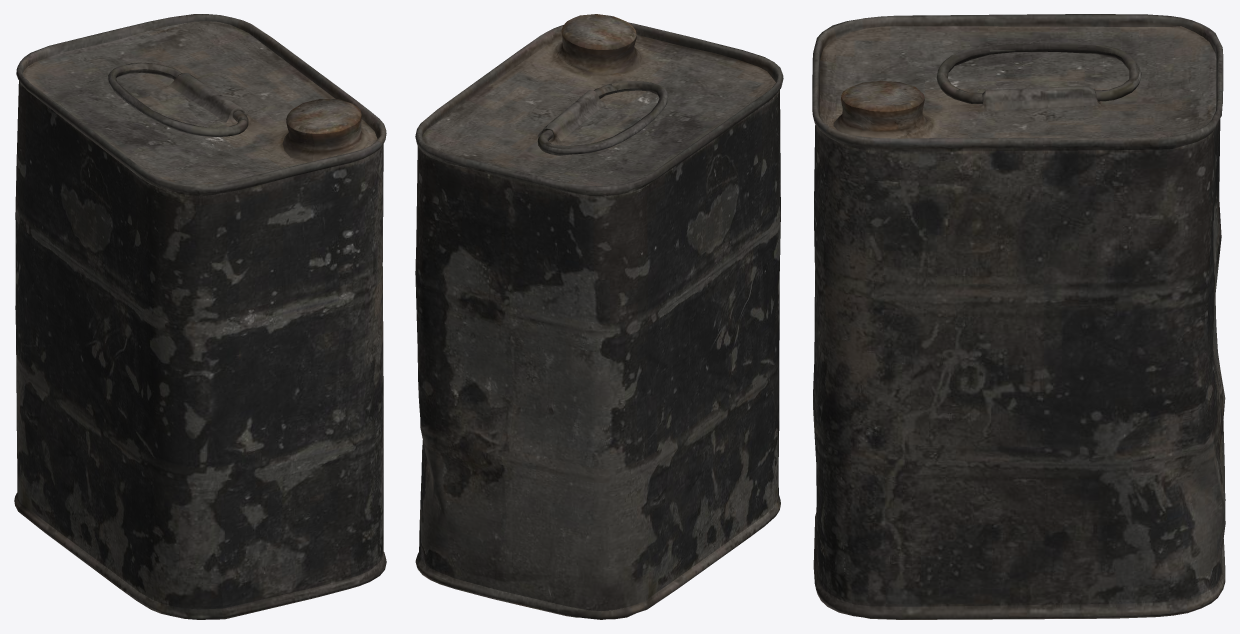
File: Oil Tin.glb
3 renders of one model, left to right at view 1: azimuth 30°, elevation 25°; view 2: azimuth 150°, elevation 25°; view 3: azimuth 270°, elevation 25°, orthographic. The views are drawn at different scales.
Parts seen in each view (by area): view 1: oil_tin, oil_tin_handle; view 2: oil_tin, oil_tin_handle; view 3: oil_tin, oil_tin_handle.
Part boxes in pixels (x1,y1,x2,y2): oil_tin: (14, 14, 386, 619); oil_tin_handle: (108, 63, 248, 137); oil_tin: (415, 14, 783, 619); oil_tin_handle: (537, 81, 668, 155); oil_tin: (812, 14, 1225, 619); oil_tin_handle: (936, 43, 1141, 103).
Size of the model in its own units: 0.1147 by 0.2054 by 0.1535.
Materials: 1 (1 with a texture image).
